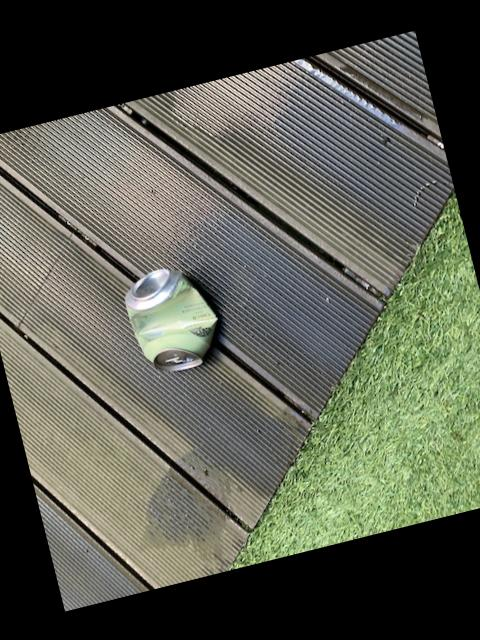metal: (124, 269, 216, 371)
